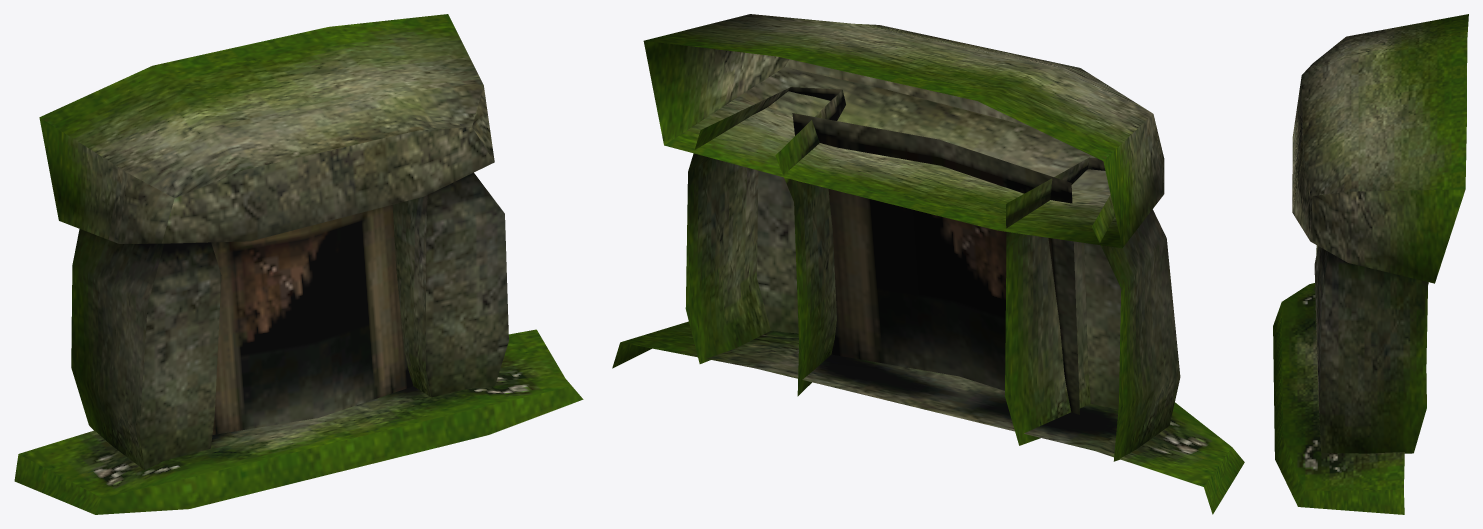
Rendered from stst16.dae.
3 views of the same model, side by side, from view 1: azimuth 30°, elevation 25°; view 2: azimuth 150°, elevation 25°; view 3: azimuth 270°, elevation 25° (orthographic). The views are drawn at different scales.
Visible parts, largest first — view 1: cellar00; view 2: cellar00; view 3: cellar00.
Boxes of the visible parts, left/top/right/bottom form: cellar00: left=14, top=14, right=583, bottom=514; cellar00: left=612, top=14, right=1244, bottom=514; cellar00: left=1273, top=14, right=1468, bottom=514.
Bounding box in the file's own units: 1.88 × 0.6642 × 1.18.
Materials: 1 (1 with a texture image).
